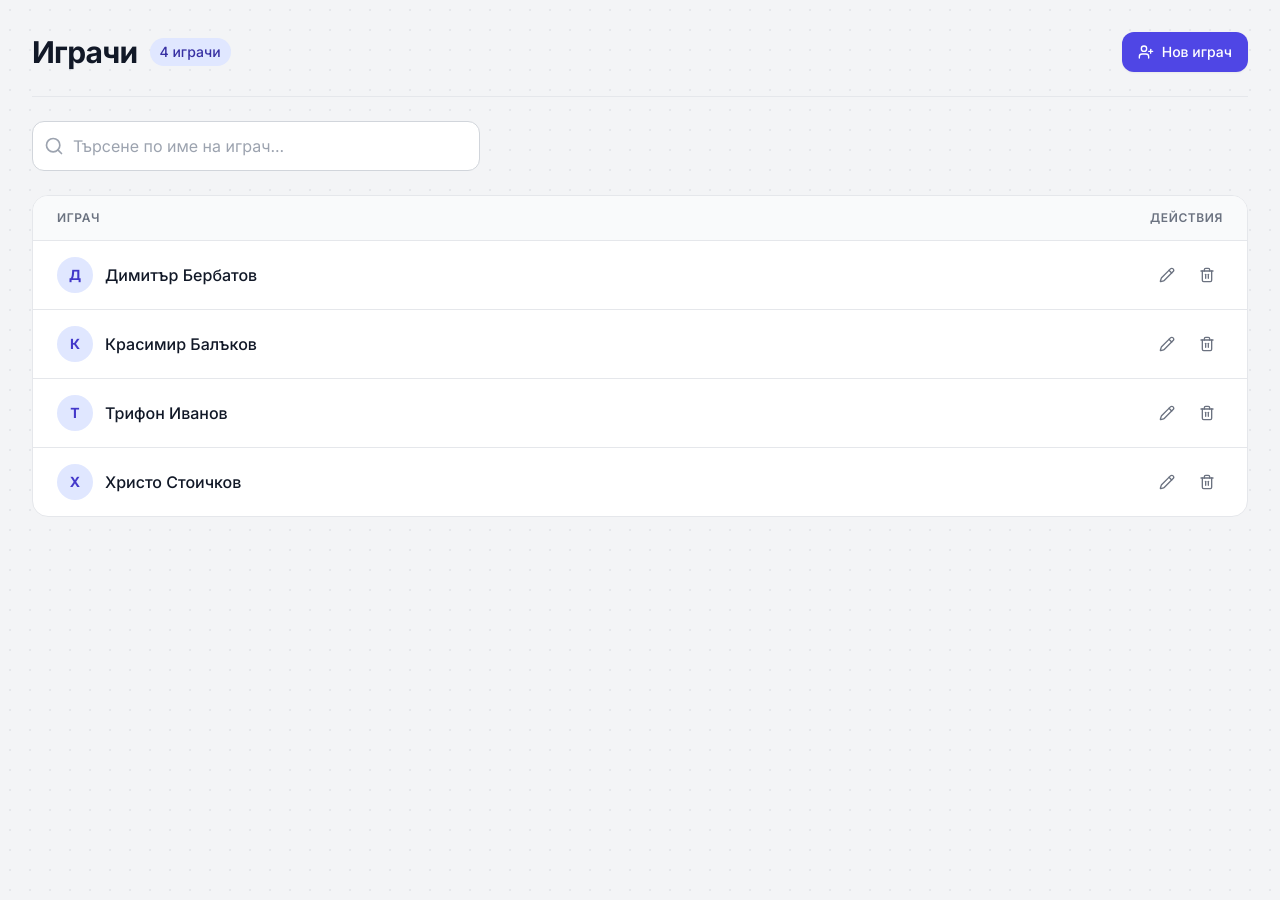
PlayersPage › Search filtering › filters players case-insensitively based on search input
Type "бербатов" into the field labelled "Търсене по име на играч" at x=256, y=146, box [32,121,480,171]
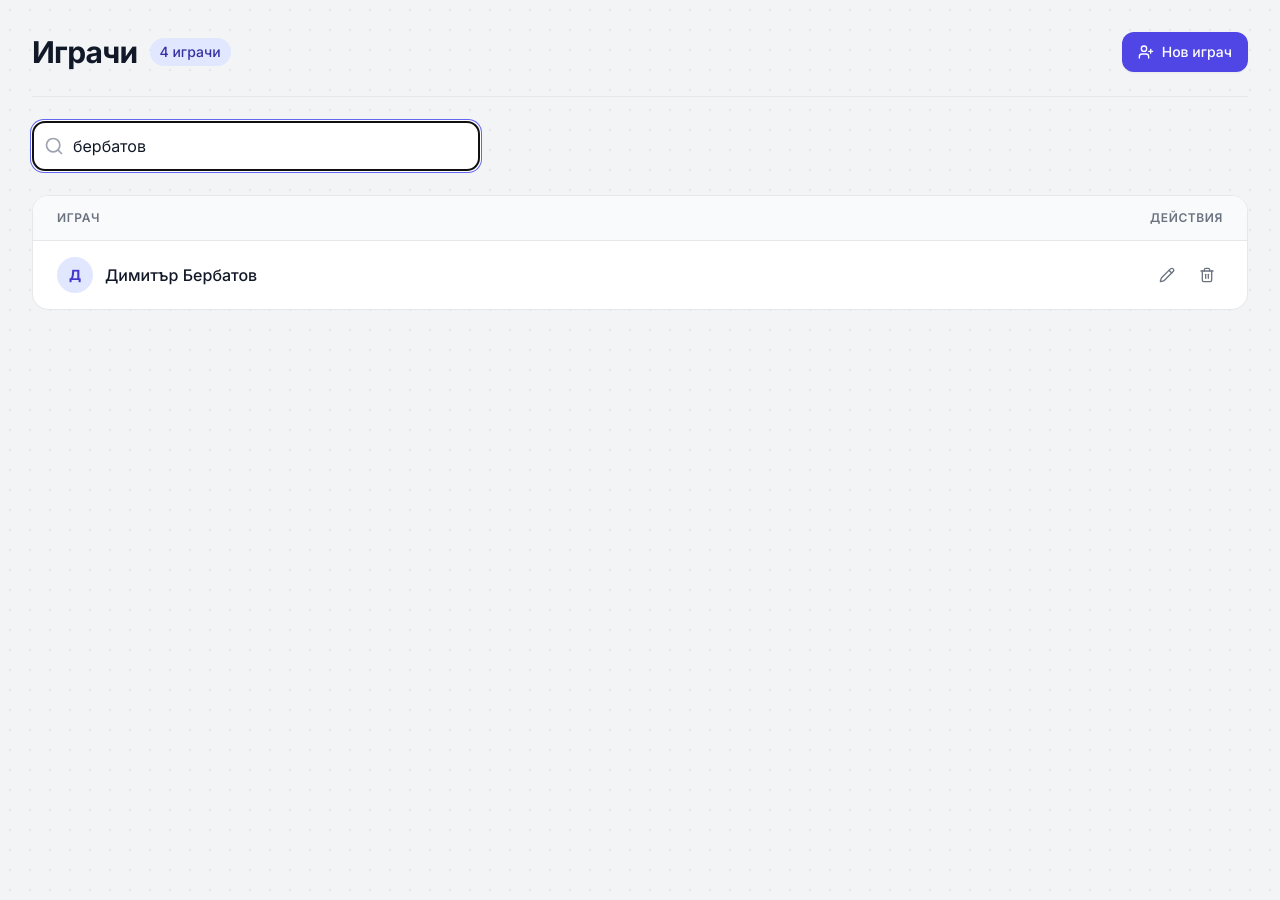
Now the text "Христо Стоичков" is gone
